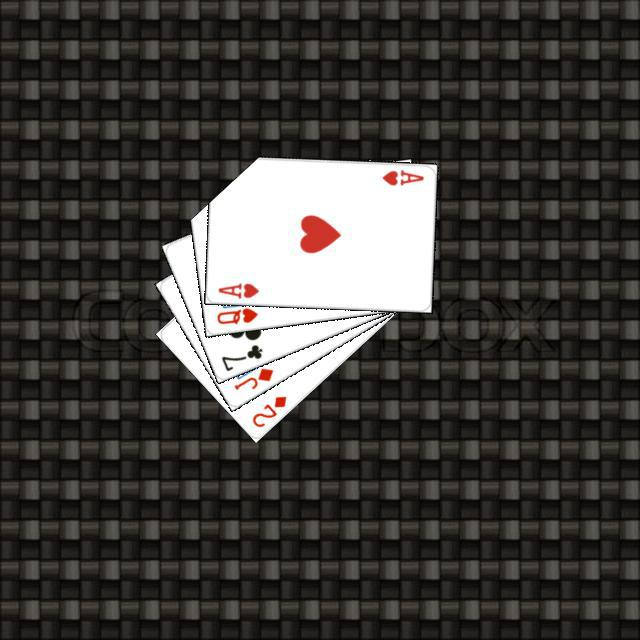2d: (247, 391, 288, 429)
7c: (216, 339, 264, 373)
Ah: (377, 164, 425, 187), (213, 278, 261, 300)
Jd: (229, 363, 275, 392)
Qh: (212, 303, 260, 326)
